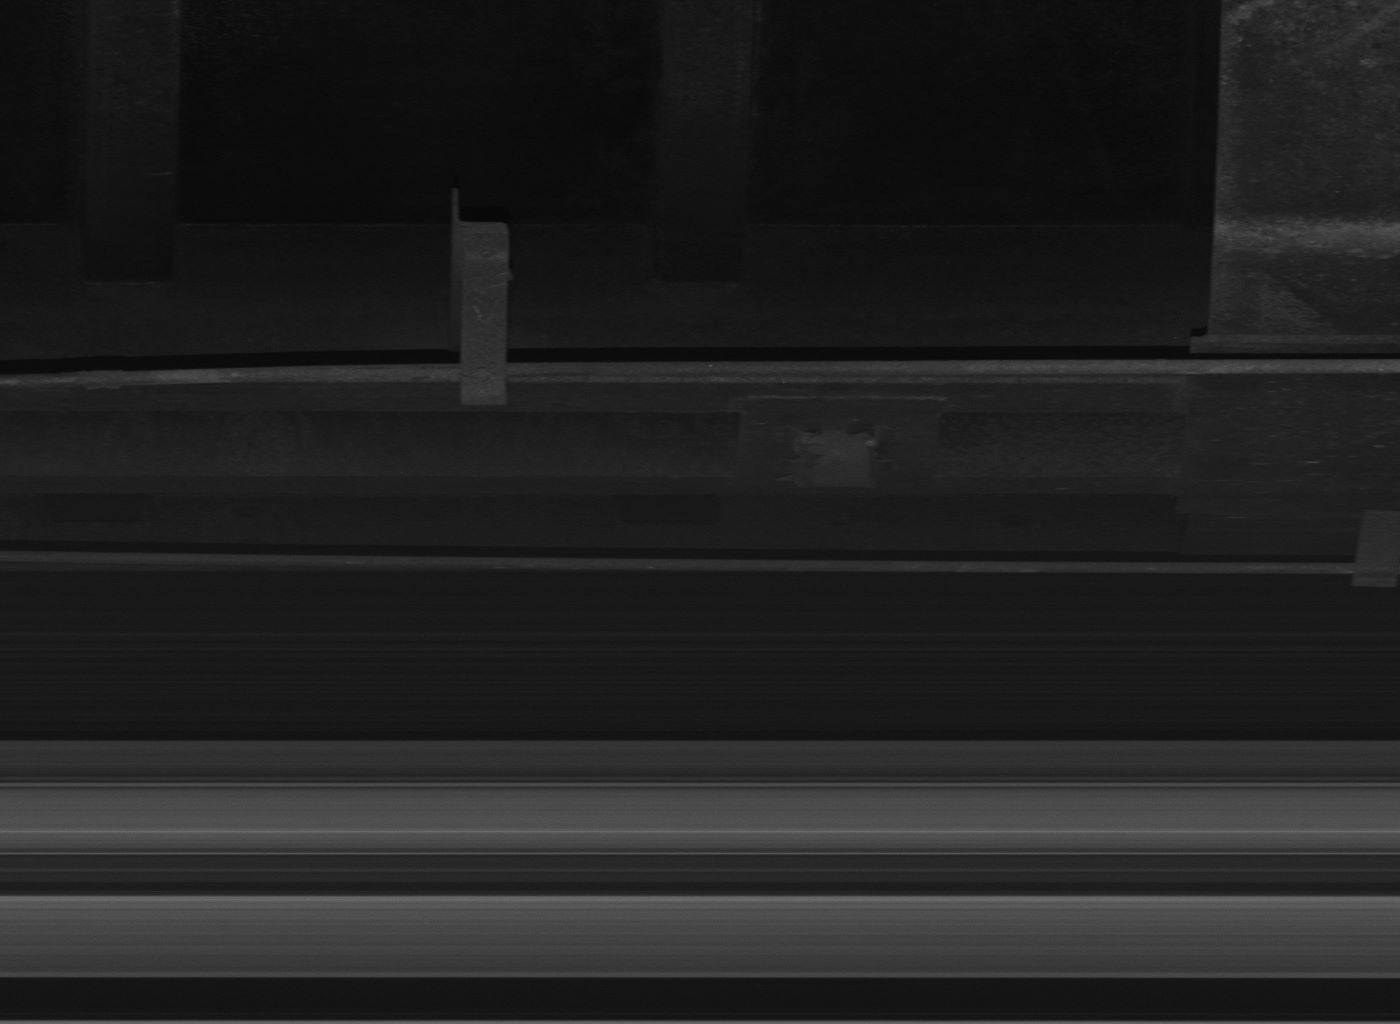normal: (454, 192, 511, 405)
